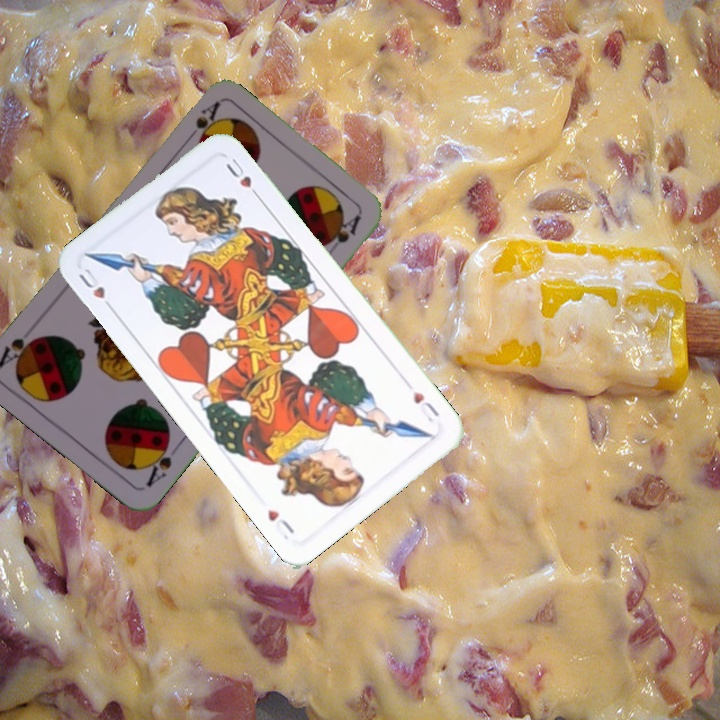HU: (74, 264, 117, 315), (409, 387, 443, 425)
SA: (179, 98, 223, 148), (142, 434, 175, 490)
